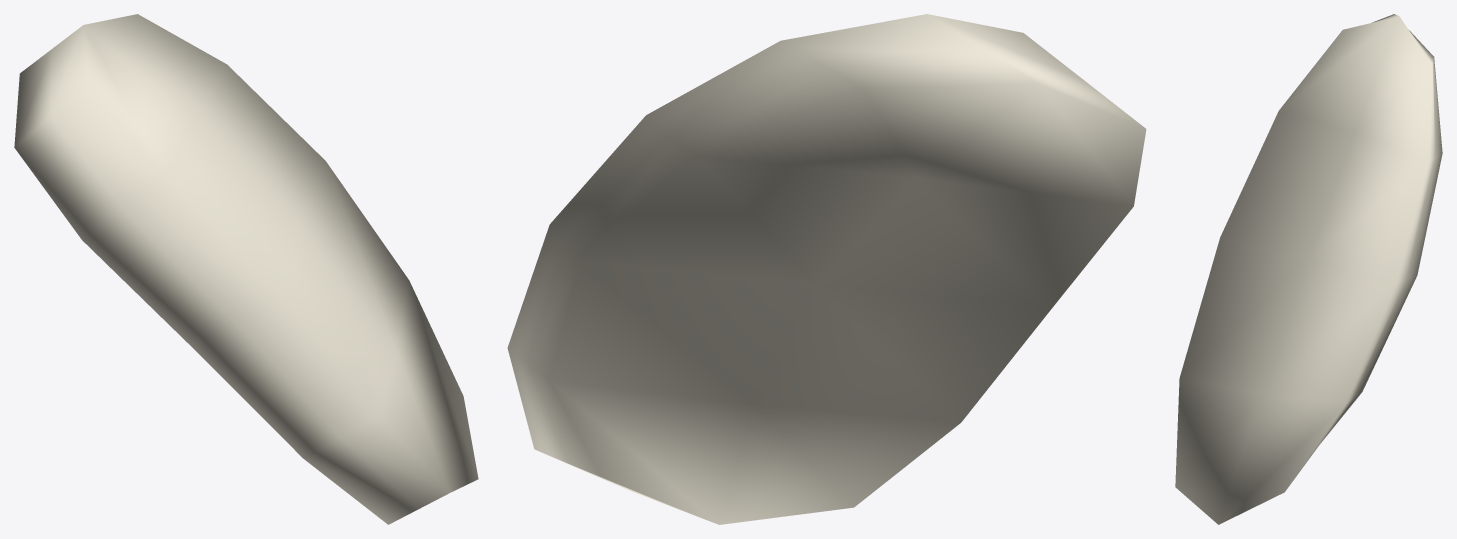
The picture shows the model from 3 angles, left to right: view 1: azimuth 30°, elevation 25°; view 2: azimuth 150°, elevation 25°; view 3: azimuth 270°, elevation 25°; orthographic projection. The views are drawn at different scales.
Parts seen in each view (by area): view 1: ZA_b67b5bcbeebbcae5; view 2: ZA_b67b5bcbeebbcae5; view 3: ZA_b67b5bcbeebbcae5.
Boxes of the visible parts, x1,y1,x2,y2 form: ZA_b67b5bcbeebbcae5: (14, 14, 478, 524); ZA_b67b5bcbeebbcae5: (507, 14, 1146, 524); ZA_b67b5bcbeebbcae5: (1175, 14, 1442, 524).
Size of the model in its own units: 0.00382 by 0.004 by 0.00246.
